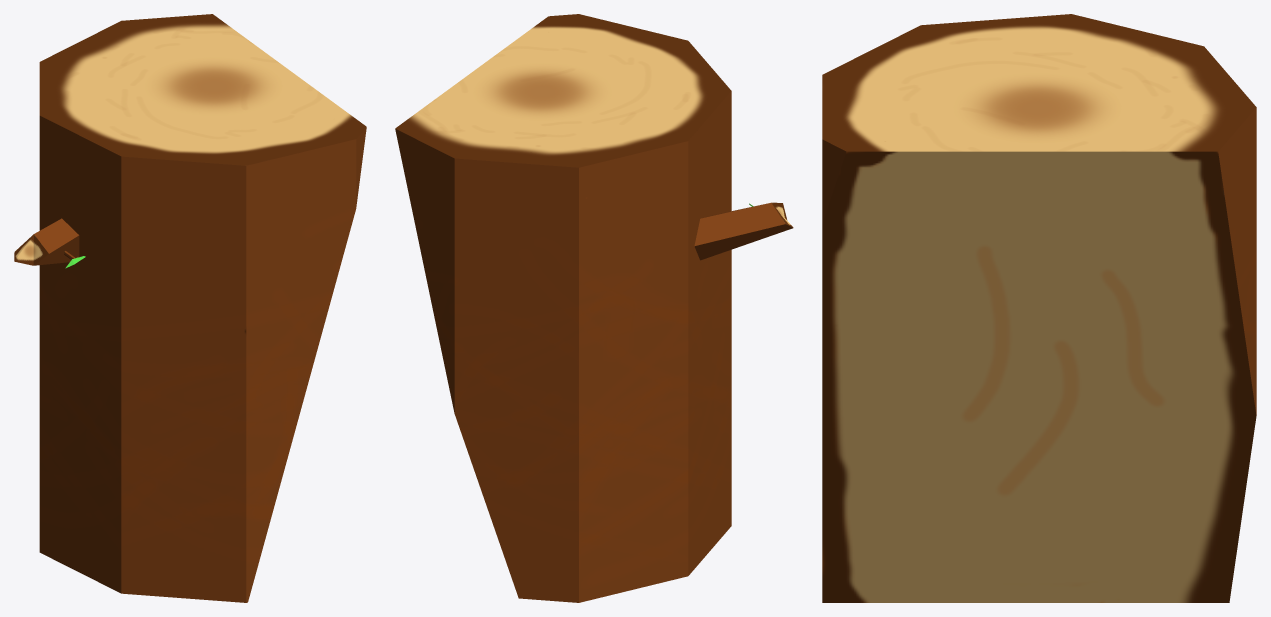
Rendered from wood left.fbx.
3 renders of one model, left to right at view 1: azimuth 30°, elevation 25°; view 2: azimuth 150°, elevation 25°; view 3: azimuth 270°, elevation 25°, orthographic. The views are drawn at different scales.
Parts seen in each view (by area): view 1: Wood Left; view 2: Wood Left; view 3: Wood Left.
Boxes of the visible parts, bbox=[...] form: Wood Left: bbox=[14, 14, 366, 602]; Wood Left: bbox=[395, 14, 793, 602]; Wood Left: bbox=[822, 14, 1256, 602].
Bounding box in the file's own units: 46.61 × 65 × 48.49.
Materials: 1 (1 with a texture image).
